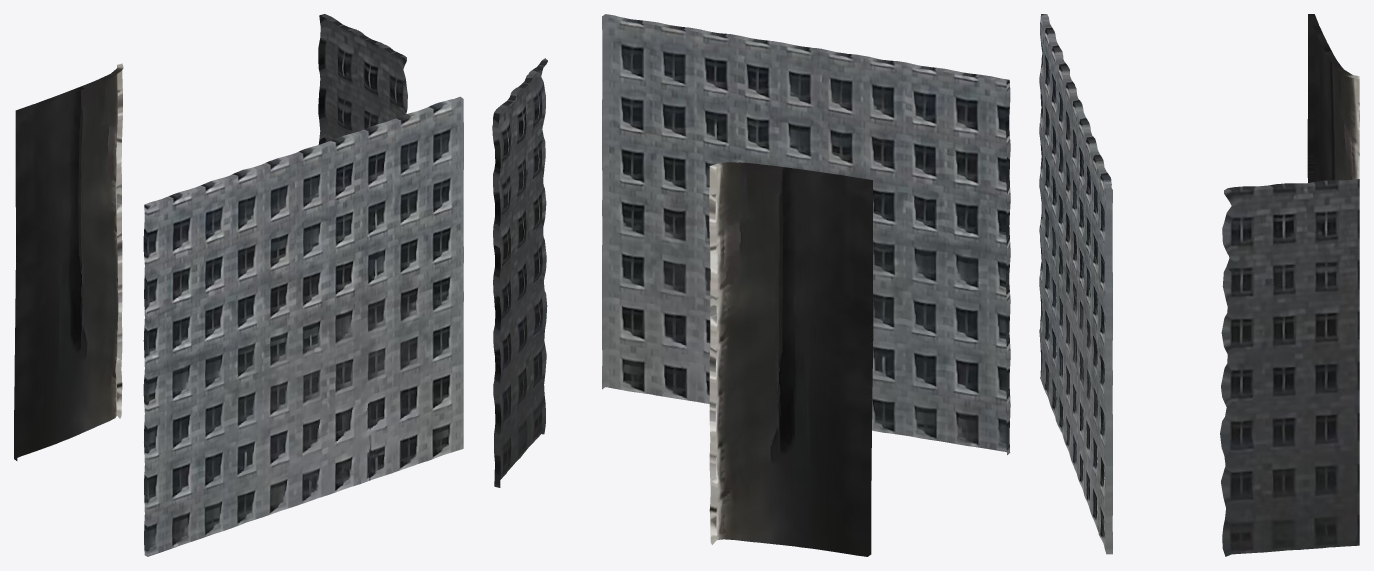
File: z20-167769-405237-h1-yup-uvflip-v3-world.glb
3 renders of one model, left to right at view 1: azimuth 30°, elevation 25°; view 2: azimuth 150°, elevation 25°; view 3: azimuth 270°, elevation 25°, orthographic. The views are drawn at different scales.
Size of the model in its own units: 30.16 by 29.44 by 23.12.
1 material, 1 textured.
